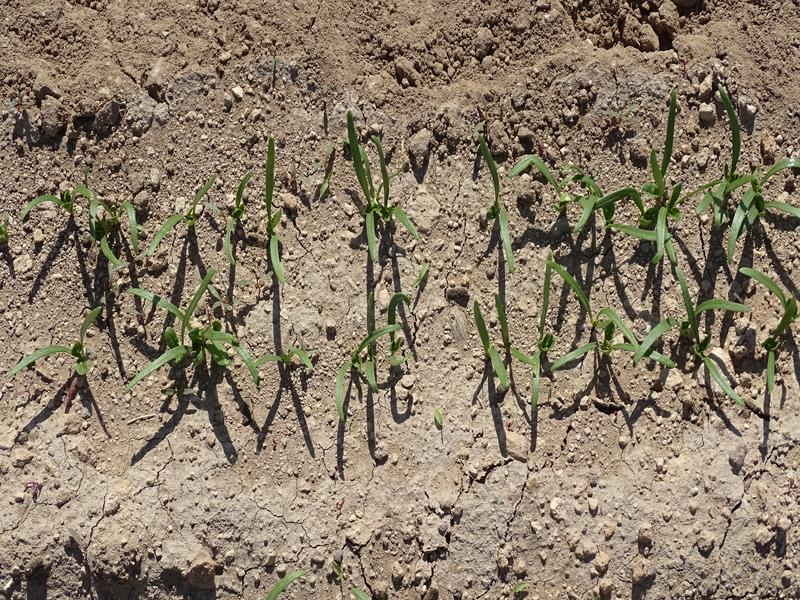Espinaca: (474, 263, 800, 432), (471, 138, 798, 261), (15, 283, 323, 404), (26, 134, 285, 275), (332, 290, 414, 408), (348, 120, 418, 239)
